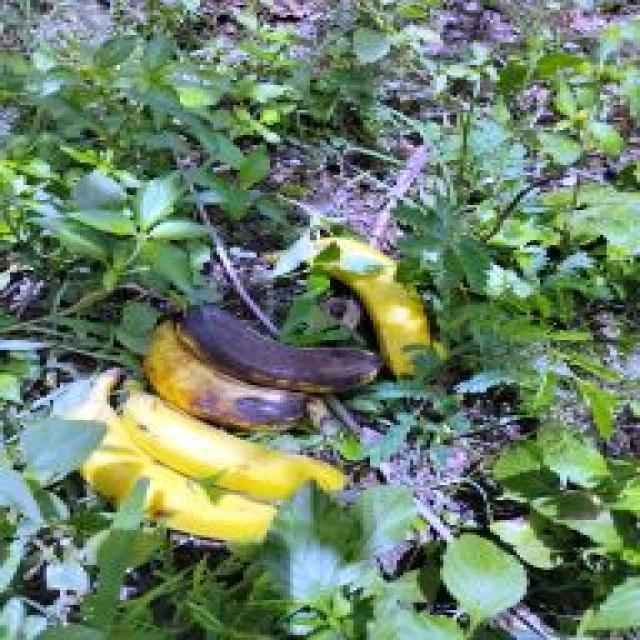Organik: (74, 425, 308, 577), (108, 382, 377, 507), (288, 206, 446, 380), (143, 291, 379, 384), (130, 321, 314, 438)
